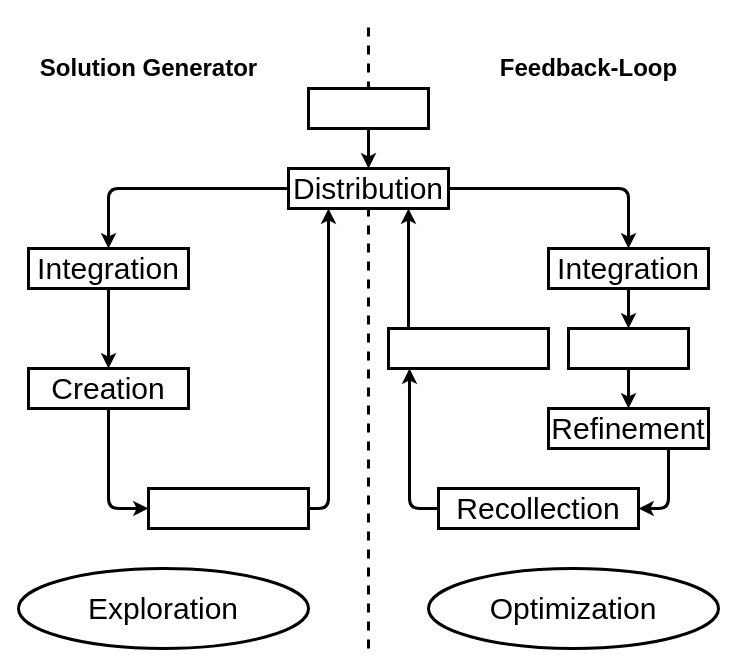
Image size: 737x668. Some labels were removed from this diagram. The shapes that lost their labels are listed below. From the top down, each one's centre as x and y in pixels, then its label:
At [368,108]: "Input".
At [468,348]: "Discarding".
At [628,348]: "Rating".
At [228,508]: "Collection".
